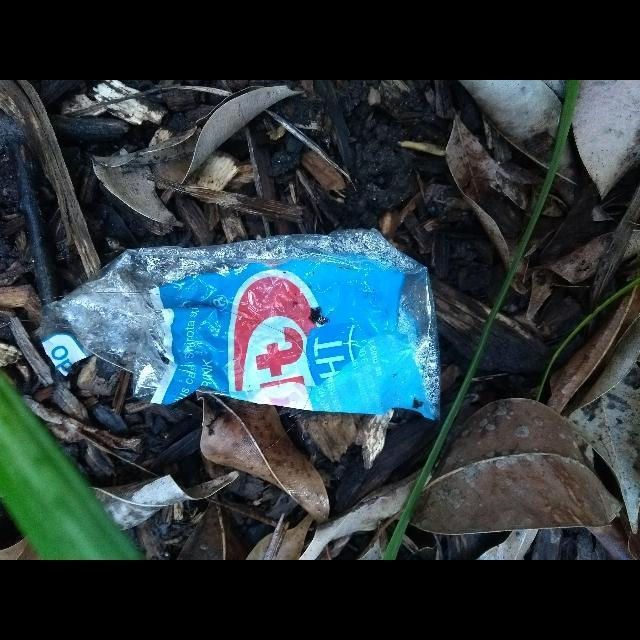Plastic: (39, 227, 440, 421)
